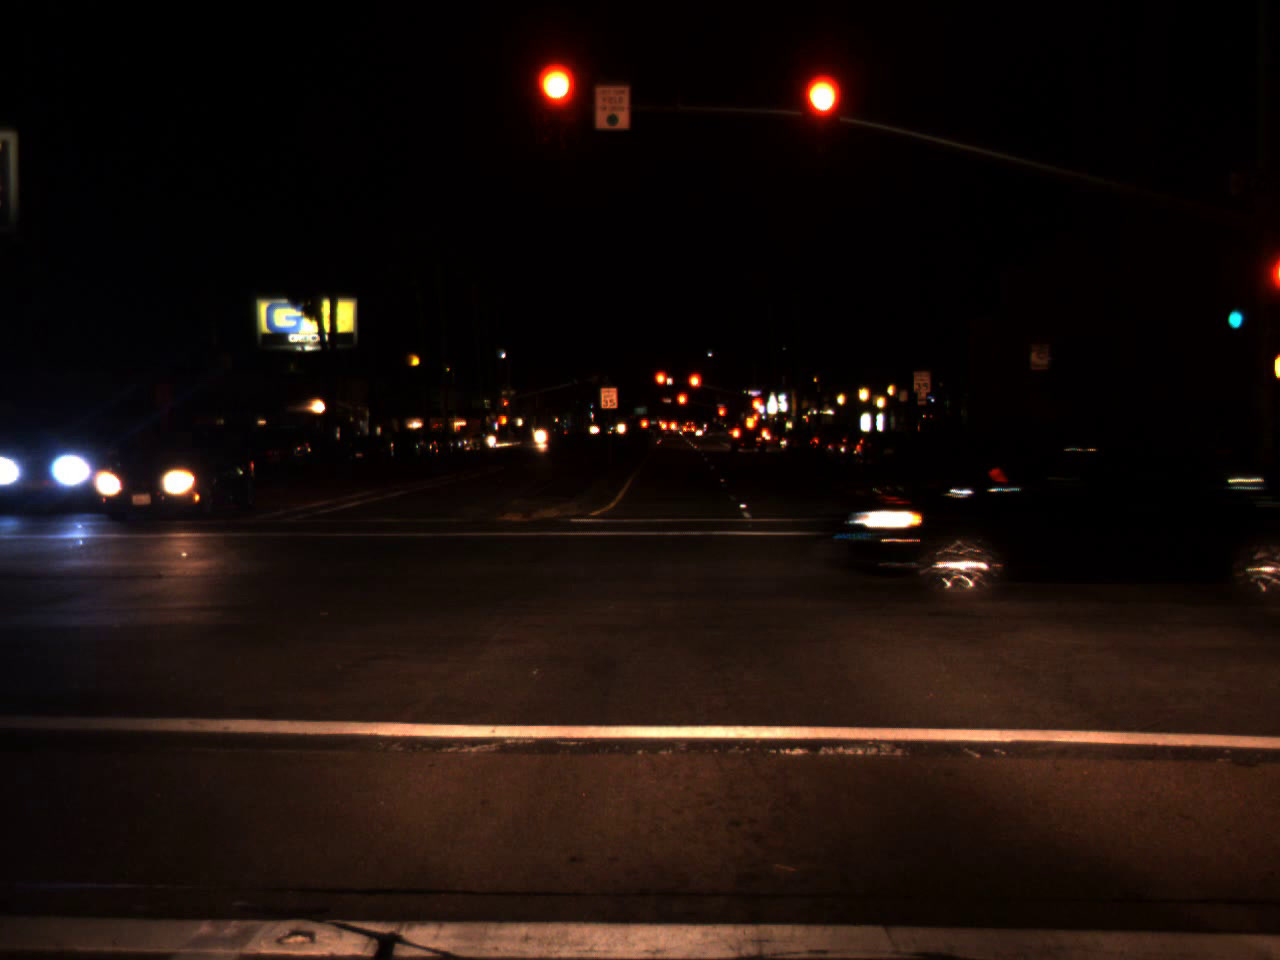stop: (538, 65, 578, 143), (801, 76, 841, 154), (686, 371, 702, 403), (653, 369, 668, 401), (750, 397, 763, 424), (676, 391, 688, 418), (717, 406, 726, 424), (503, 399, 509, 412)
